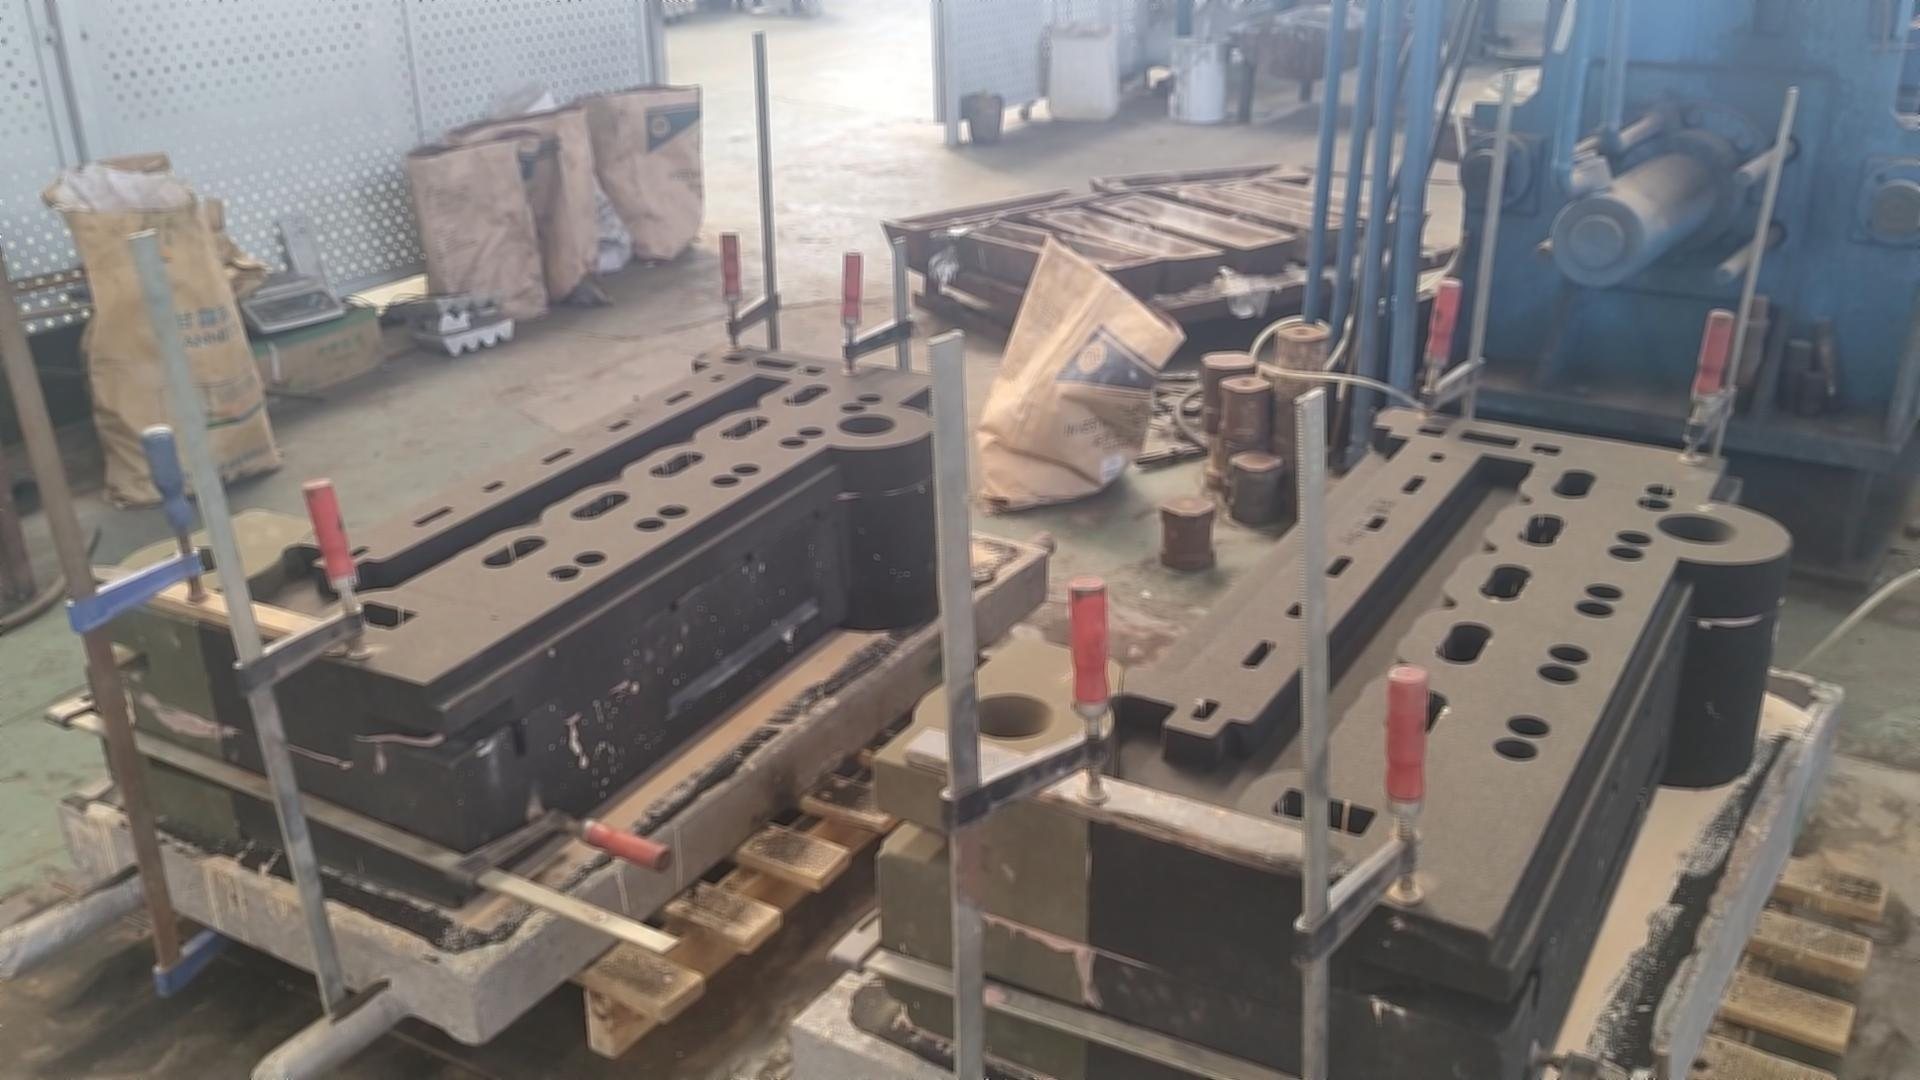pouring hole: (971, 691, 1054, 738), (1654, 512, 1737, 546), (165, 546, 229, 574), (836, 413, 895, 436)
